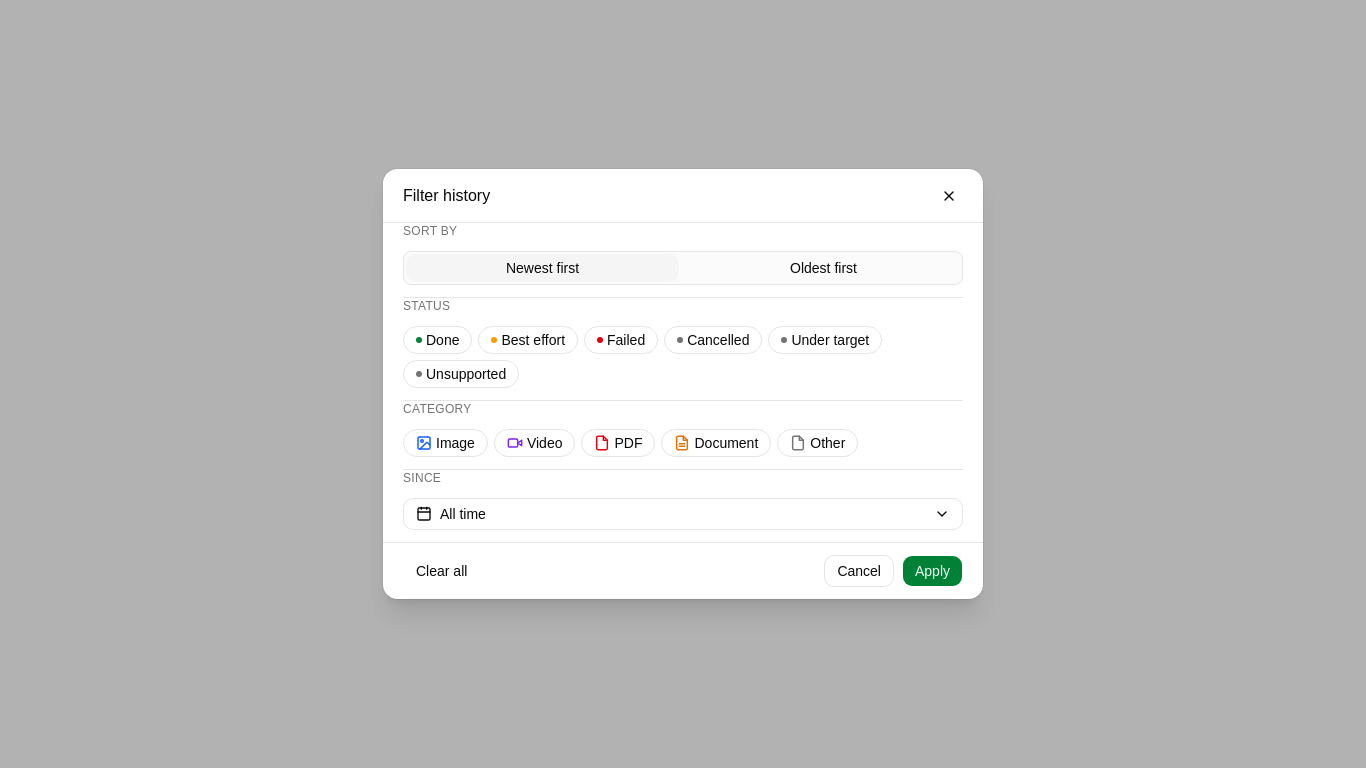
Test: HistoryFilterDialog › counts an Image-only selection in the badge
Step 1. Click the button "Image" → (445, 443), box 403,429 -> 488,457
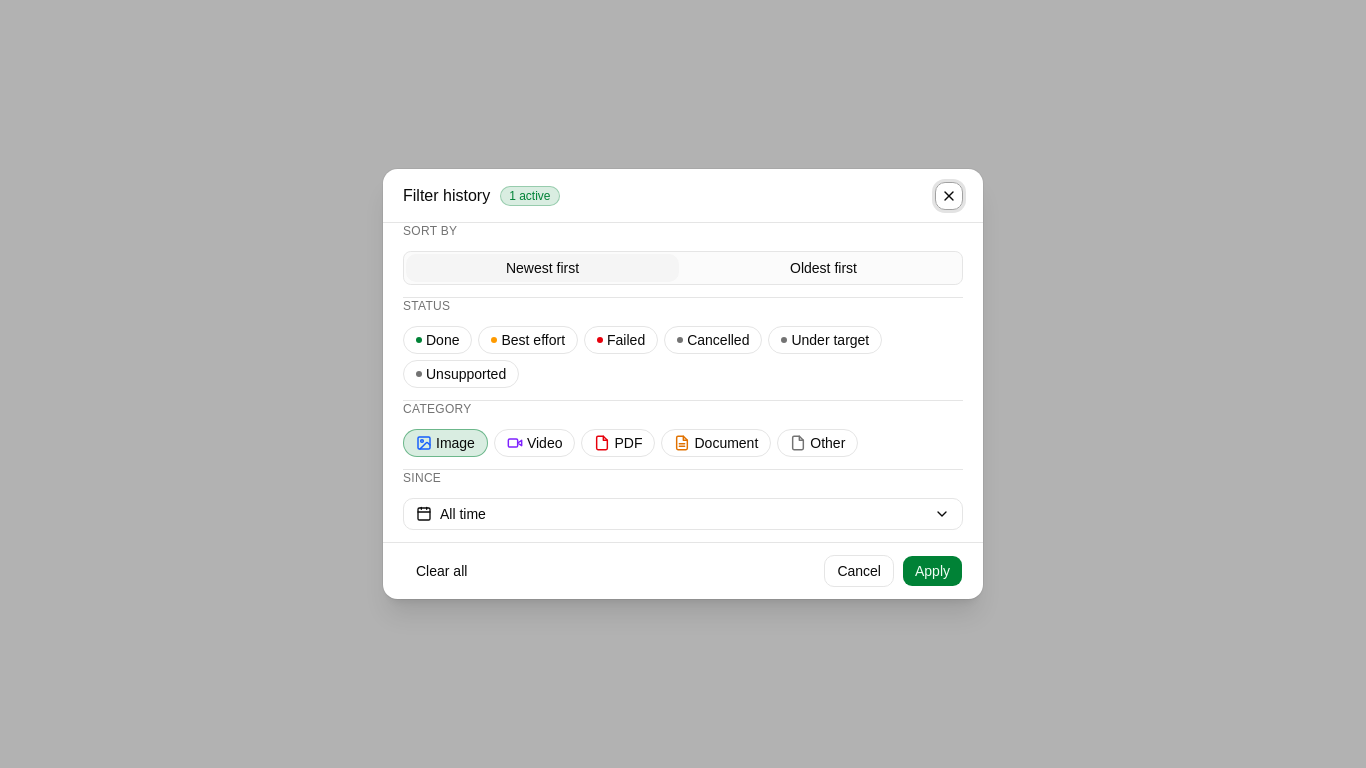
expect the icon "1 active" is shown: met, box 500,186 -> 560,206
